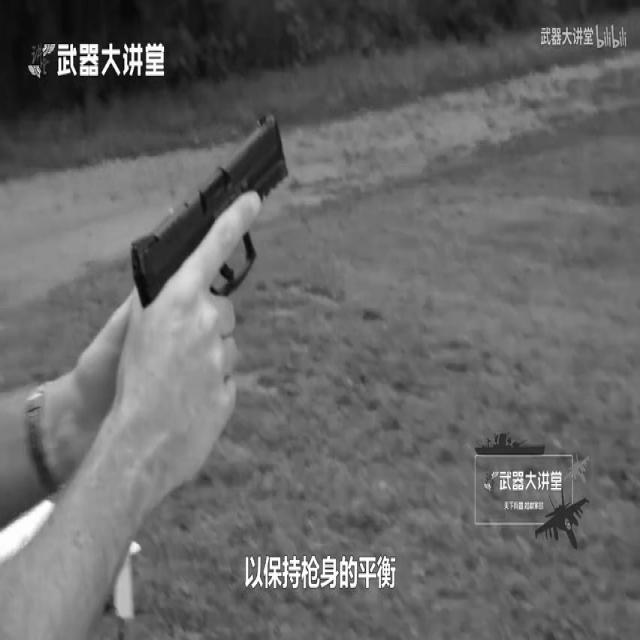Hand-Gun: (90, 79, 348, 410)
